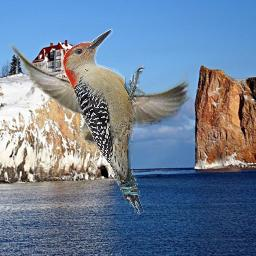Swallow: (8, 43, 192, 153)
Woodpecker: (63, 27, 145, 216)
